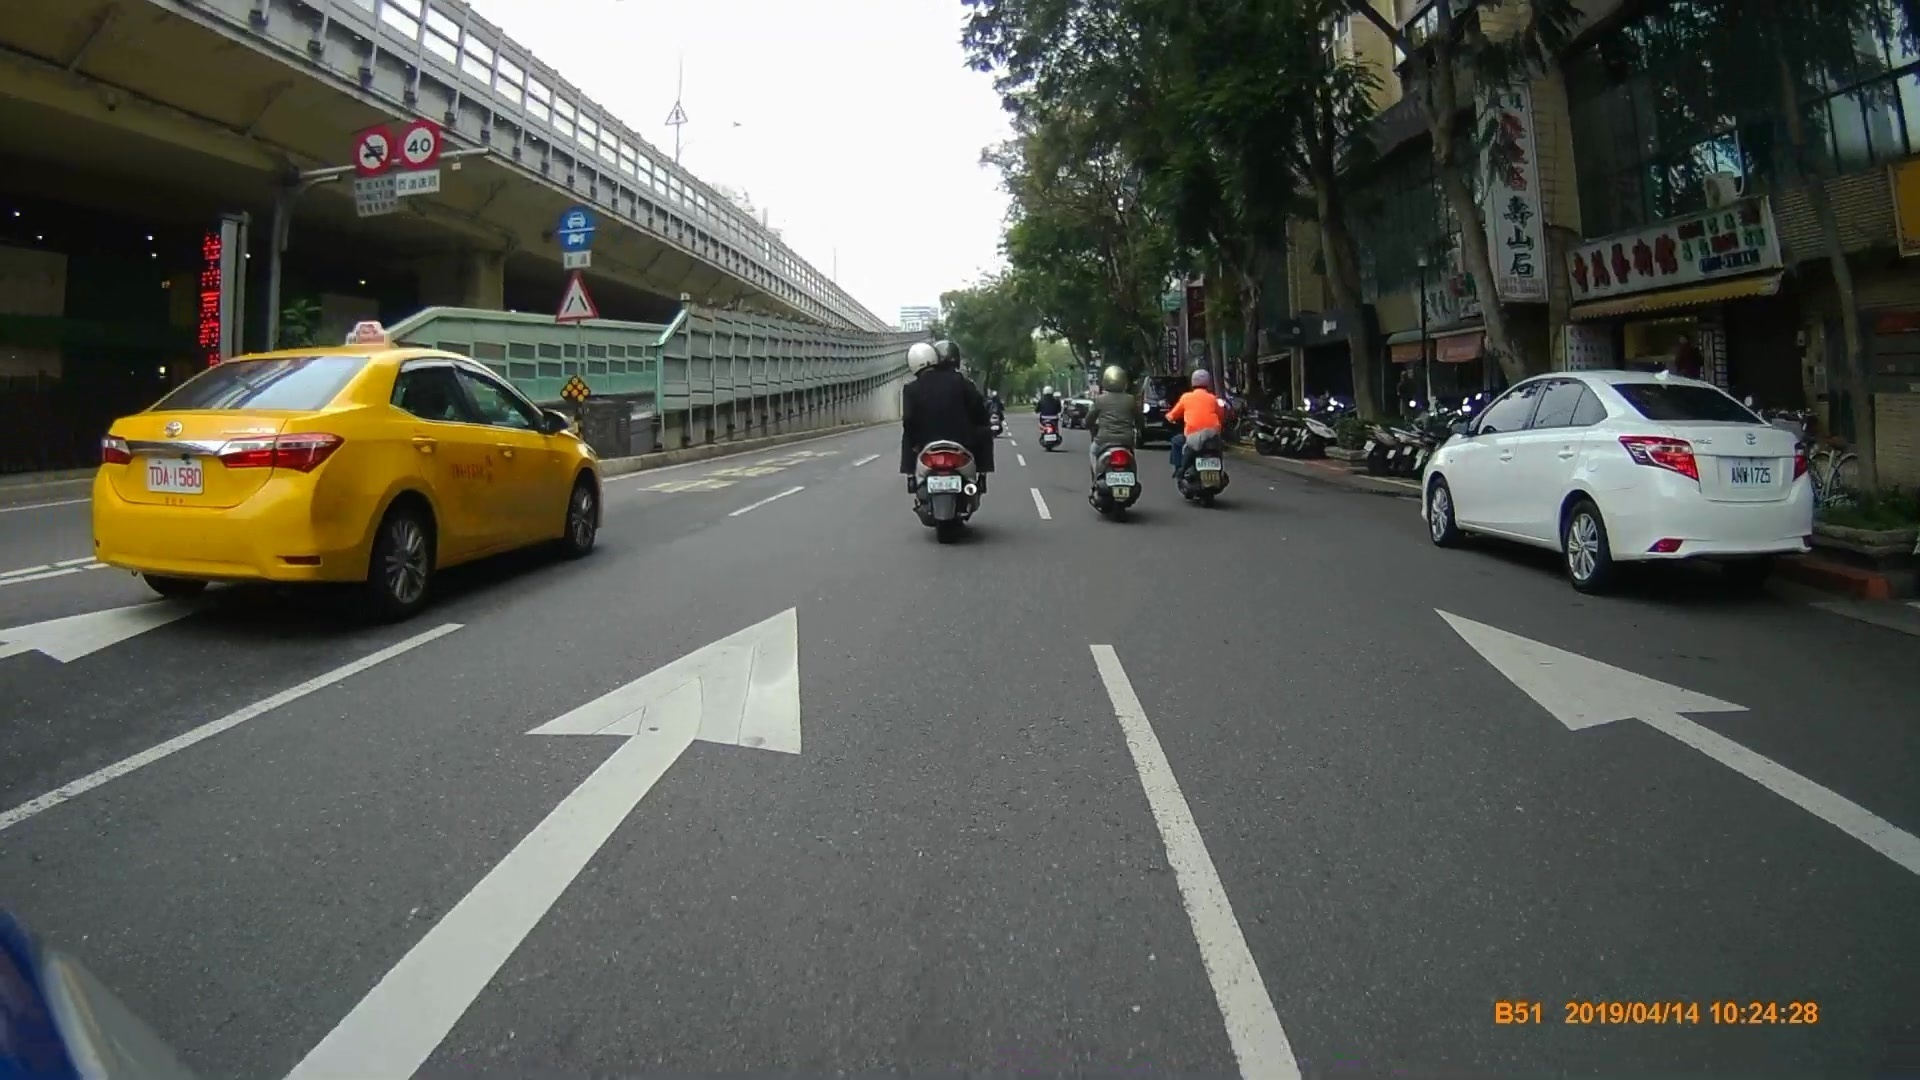License_plate: (147, 460, 207, 498), (1726, 462, 1777, 488), (925, 479, 964, 496), (1103, 470, 1135, 489), (1191, 459, 1223, 473)
